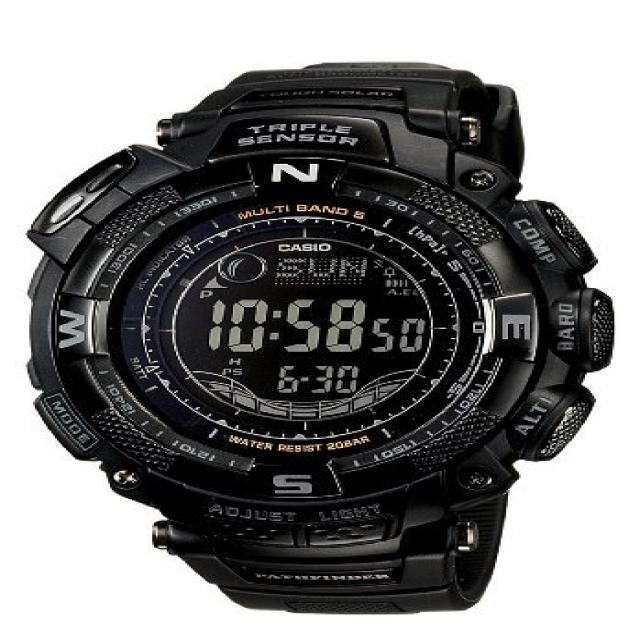watch: (21, 77, 613, 610)
